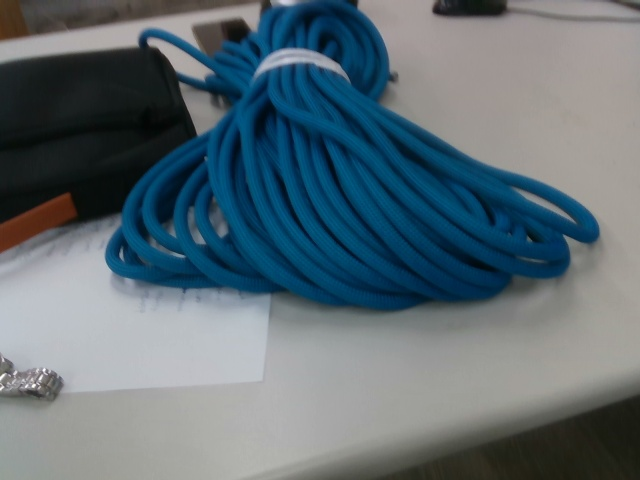rope: (104, 1, 604, 314)
